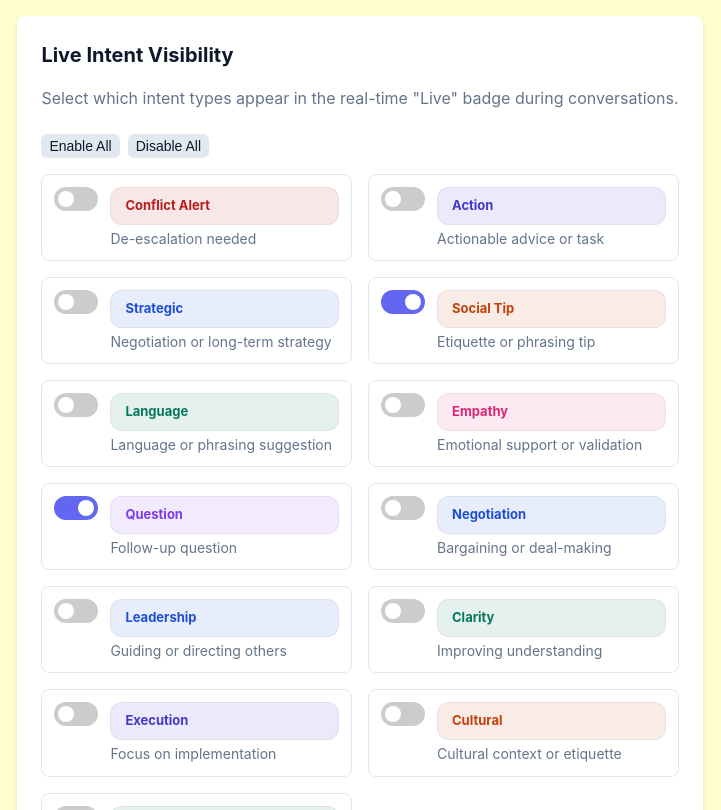
IntentFilterSettings › handles disable all button correctly
This screenshot has width=721, height=810.
Check: the checkbox named "Social Tip" is checked, box [381,290,425,314]
Check: the checkbox named "Question" is checked, box [54,496,98,520]
Click the button "Disable All". click: x=168, y=146
box: [128,134,209,158]
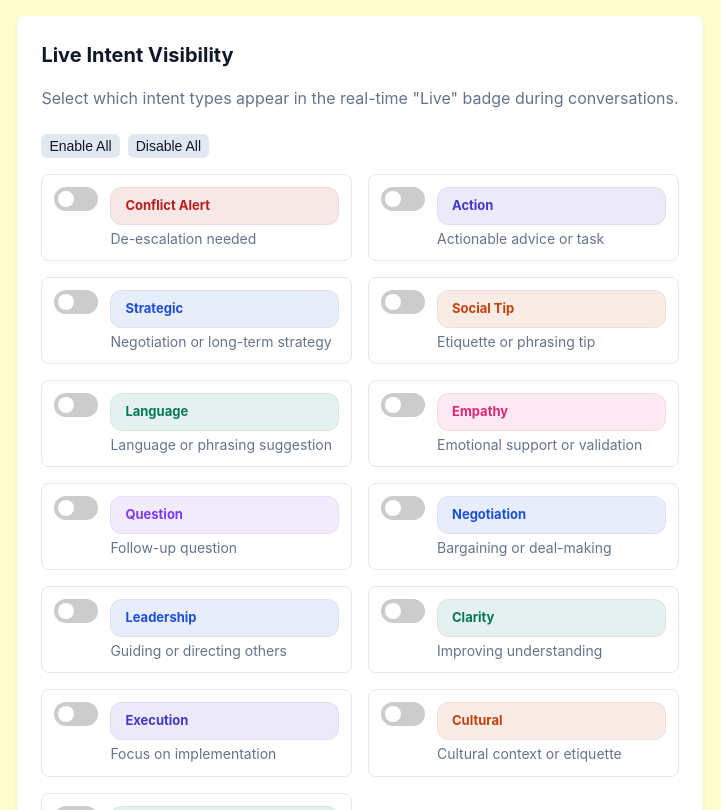
Check: the checkbox named "Conflict Alert" is not checked, box [54,187,98,211]
Check: the checkbox named "Social Tip" is not checked, box [381,290,425,314]
Check: the checkbox named "Question" is not checked, box [54,496,98,520]
